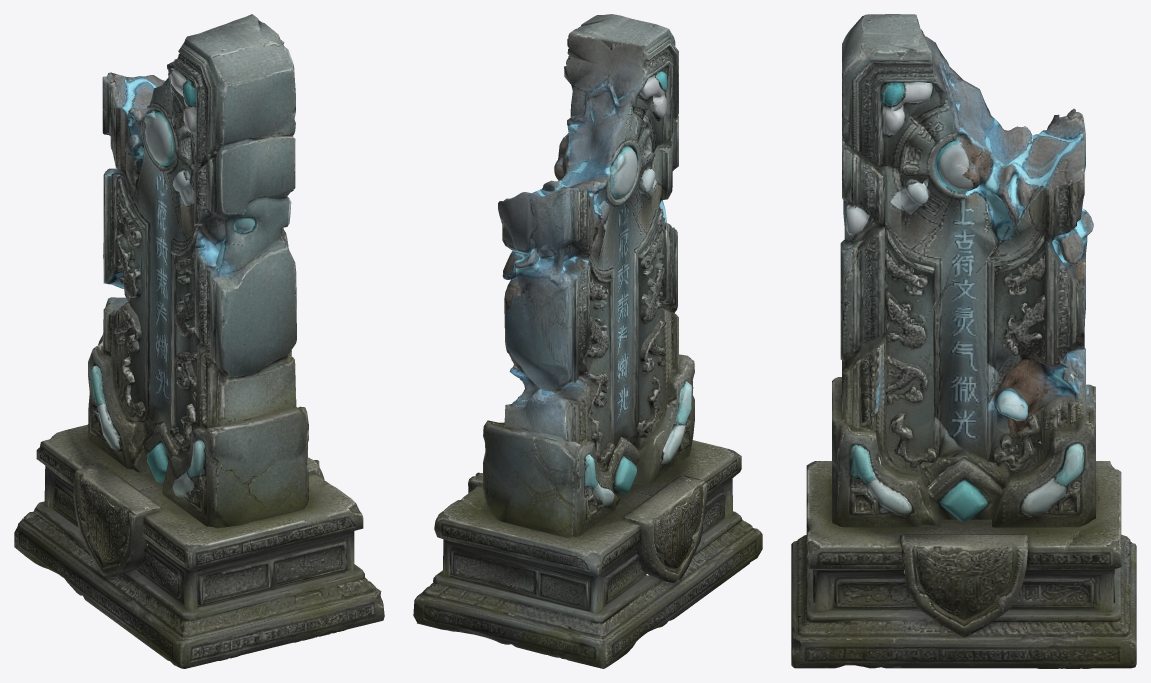
Rendered from shibei.glb.
3 renders of one model, left to right at view 1: azimuth 30°, elevation 25°; view 2: azimuth 150°, elevation 25°; view 3: azimuth 270°, elevation 25°, orthographic. The views are drawn at different scales.
Parts seen in each view (by area): view 1: tripo_node_a2cc9e6a-9bda-48c4-b4c8-75c4bdbe19b9; view 2: tripo_node_a2cc9e6a-9bda-48c4-b4c8-75c4bdbe19b9; view 3: tripo_node_a2cc9e6a-9bda-48c4-b4c8-75c4bdbe19b9.
Boxes of the visible parts, x1,y1,x2,y2 form: tripo_node_a2cc9e6a-9bda-48c4-b4c8-75c4bdbe19b9: (14, 14, 384, 668); tripo_node_a2cc9e6a-9bda-48c4-b4c8-75c4bdbe19b9: (413, 14, 762, 668); tripo_node_a2cc9e6a-9bda-48c4-b4c8-75c4bdbe19b9: (791, 14, 1136, 668).
Size of the model in its own units: 0.377 by 0.998 by 0.5332.
Materials: 1 (1 with a texture image).
